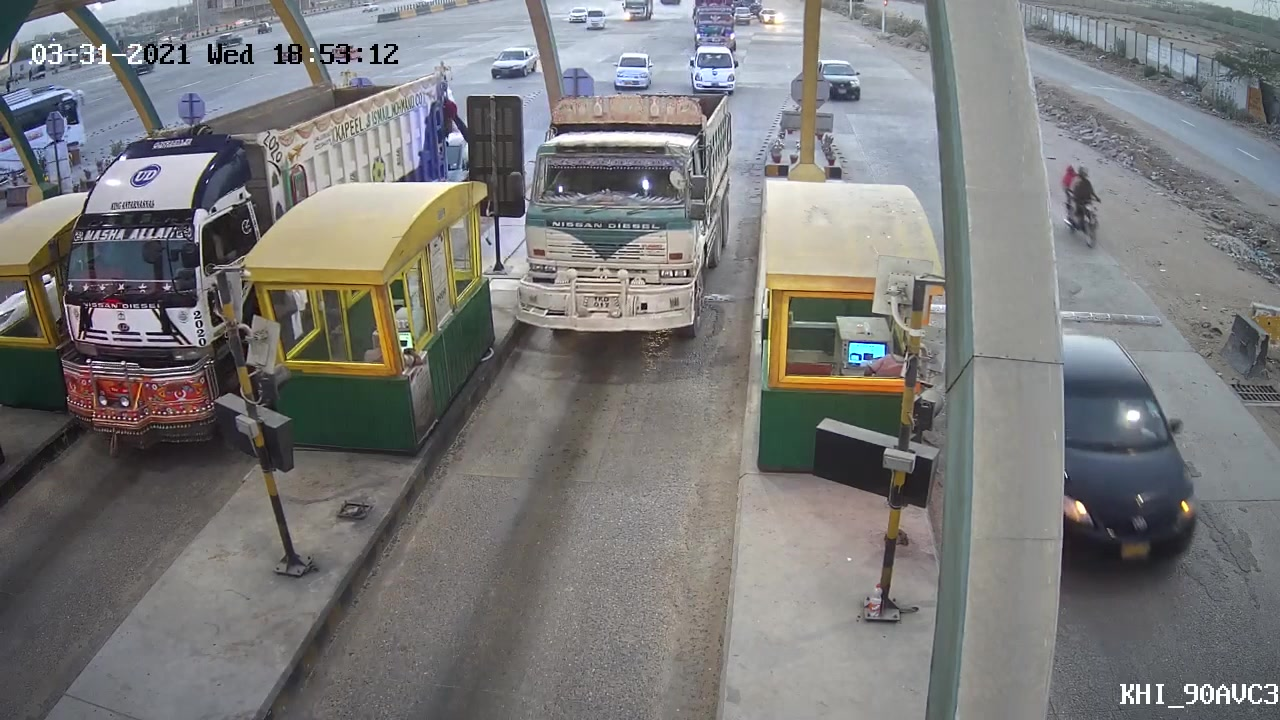F5: (508, 84, 742, 349)
